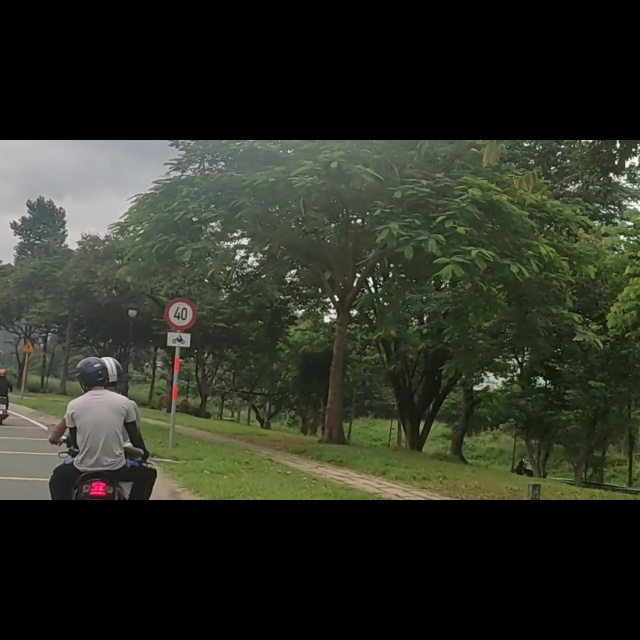bien_nguy_hiem: (165, 279, 197, 338), (21, 356, 37, 380)
